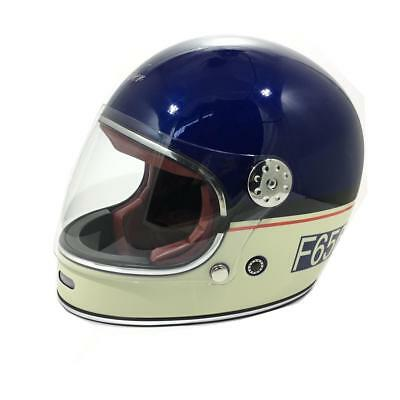with_helmet: (49, 33, 366, 319)
